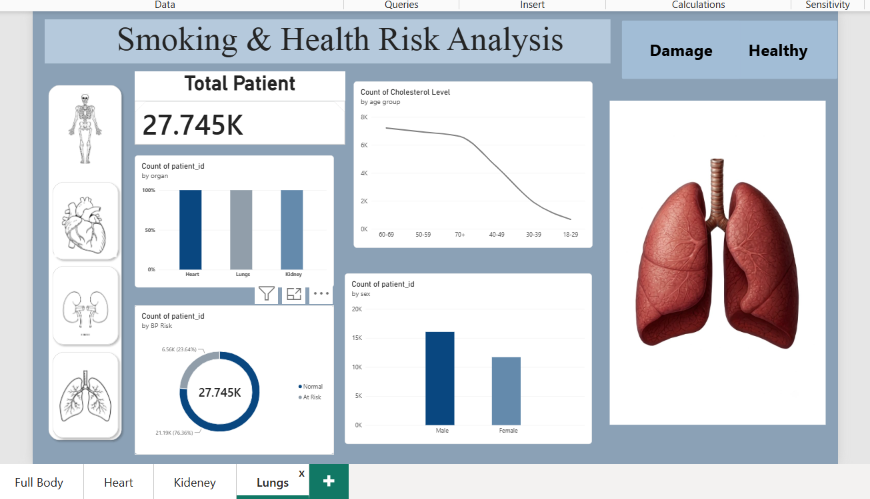

The page's visual inventory and layout, read from the dashboard file:
{"tool":"powerbi","page":{"name":"Lungs","canvas":[1920,1080],"ordinal":3},"visuals":[{"type":"actionButton","box":[27.5,167.5,192.5,865],"z":0},{"type":"actionButton","box":[37.5,397.5,175,202.5],"z":1000},{"type":"actionButton","box":[37.5,600,175,205],"z":2000},{"type":"actionButton","box":[37.5,805,175,222.5],"z":3000},{"type":"textbox","box":[27.5,20,1350,105],"z":4000},{"type":"cardVisual","title":"Total Patient","fields":{"Data":["Count(MODS_Clinical_3C_50K (3).patient_id)"]},"box":[242.5,142.5,502.5,175],"z":5000},{"type":"hundredPercentStackedColumnChart","fields":{"Category":["MODS_Clinical_3C_50K (3).organ"],"Y":["Count(MODS_Clinical_3C_50K (3).patient_id)"]},"box":[242.5,342.5,475,315],"z":6000},{"type":"donutChart","fields":{"Category":["MODS_Clinical_3C_50K (3).BP Risk"],"Y":["CountNonNull(MODS_Clinical_3C_50K (3).patient_id)"]},"box":[242.5,702.5,475,355],"z":7000},{"type":"lineChart","fields":{"Category":["MODS_Clinical_3C_50K (3).age group"],"Y":["CountNonNull(MODS_Clinical_3C_50K (3).Cholesterol Level)"]},"box":[765,167.5,570,397.5],"z":8000},{"type":"clusteredColumnChart","fields":{"Category":["MODS_Clinical_3C_50K (3).sex"],"Y":["Count(MODS_Clinical_3C_50K (3).patient_id)"]},"box":[745,625,590,407.5],"z":9000},{"type":"actionButton","box":[1636.6,21.3,283.4,140.2],"z":10000},{"type":"actionButton","box":[1405,21.3,283.4,140.2],"z":11000},{"type":"image","title":"healthy l.","box":[1377.5,201.1,515,798.5],"z":13000}]}

Visuals, with their boxes on the page's 1920x1080 design canvas (x1, y1, x2, y2). These are canvas units, not pixel positions in the 870x499 screenshot, which may show the page scaled, cropped or inside an application window:
actionButton: [28,168,220,1032]
actionButton: [38,398,212,600]
actionButton: [38,600,212,805]
actionButton: [38,805,212,1028]
textbox: [28,20,1378,125]
"Total Patient" cardVisual: [242,142,745,318]
hundredPercentStackedColumnChart - MODS_Clinical_3C_50K (3).organ x Count(MODS_Clinical_3C_50K (3).patient_id): [242,342,718,658]
donutChart - MODS_Clinical_3C_50K (3).BP Risk x CountNonNull(MODS_Clinical_3C_50K (3).patient_id): [242,702,718,1058]
lineChart - MODS_Clinical_3C_50K (3).age group x CountNonNull(MODS_Clinical_3C_50K (3).Cholesterol Level): [765,168,1335,565]
clusteredColumnChart - MODS_Clinical_3C_50K (3).sex x Count(MODS_Clinical_3C_50K (3).patient_id): [745,625,1335,1032]
actionButton: [1637,21,1920,162]
actionButton: [1405,21,1688,162]
"healthy l." image: [1378,201,1892,1000]
